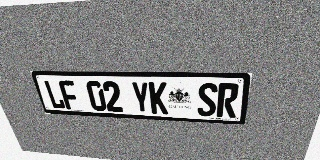0: (85, 81, 107, 111)
2: (102, 81, 123, 112)
F: (58, 80, 81, 110)
K: (148, 82, 168, 114)
L: (43, 80, 66, 109)
R: (216, 83, 240, 118)
S: (197, 83, 218, 117)
Y: (130, 82, 151, 113)
